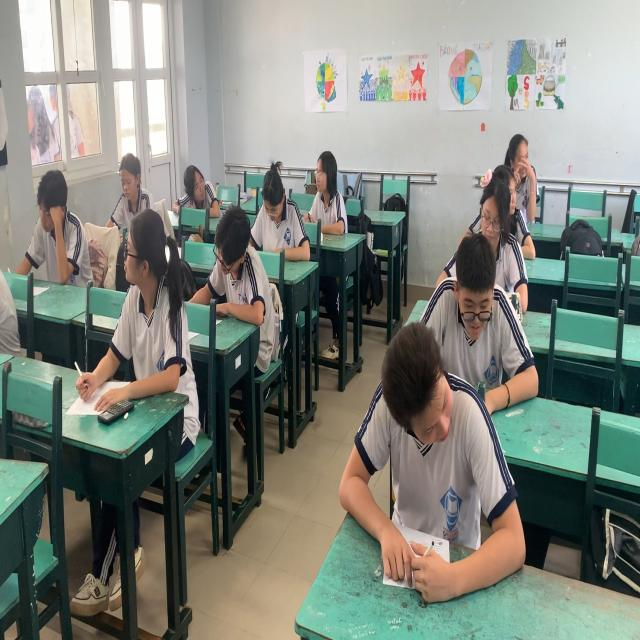cheating: (114, 208, 188, 402), (180, 160, 221, 218)
not_cheating: (350, 330, 472, 582), (439, 232, 510, 398), (207, 198, 276, 323), (29, 171, 87, 287), (252, 160, 314, 268), (472, 181, 526, 305), (304, 146, 352, 243), (507, 130, 538, 222), (115, 146, 151, 208)
